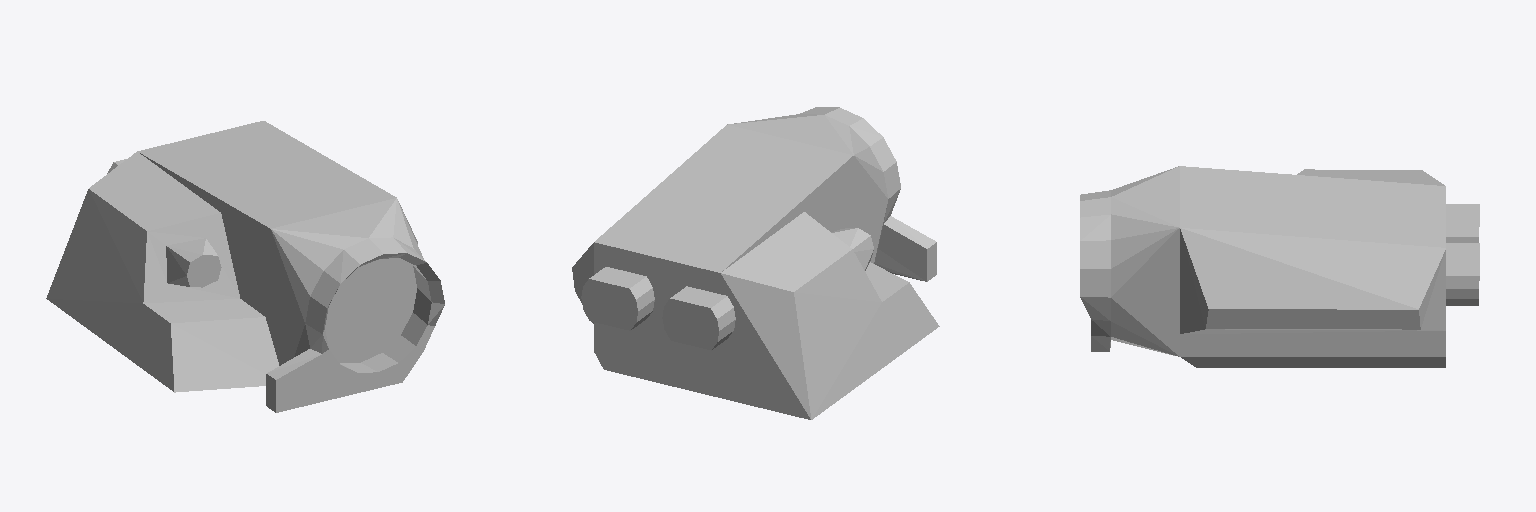
3 views of the same model, side by side, from view 1: azimuth 30°, elevation 25°; view 2: azimuth 150°, elevation 25°; view 3: azimuth 270°, elevation 25° (orthographic).
Parts seen in each view (by area): view 1: binocular; view 2: binocular; view 3: binocular.
Part boxes in pixels (x1,y1,x2,y2): binocular: (46, 121, 444, 412); binocular: (572, 107, 939, 419); binocular: (1080, 166, 1479, 367).
Size of the model in its own units: 1.3 by 0.7145 by 1.78.